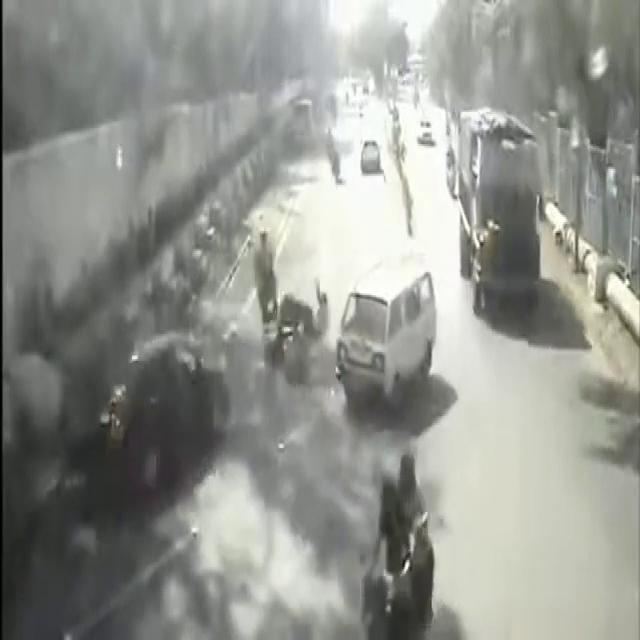accident: (244, 258, 332, 394)
